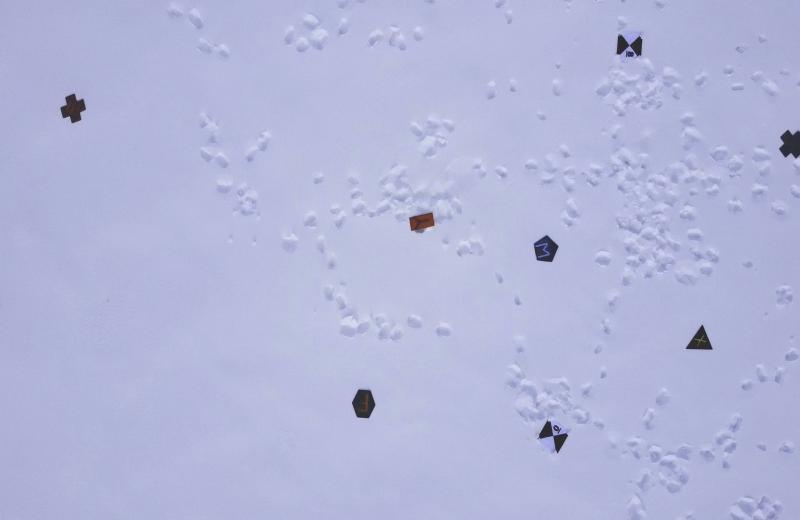Cross: (60, 90, 88, 125), (775, 126, 800, 159)
Hexagon: (348, 388, 377, 423)
Pentagon: (531, 234, 564, 269)
Rectangle: (407, 207, 440, 234)
Triangle: (686, 322, 714, 354)
